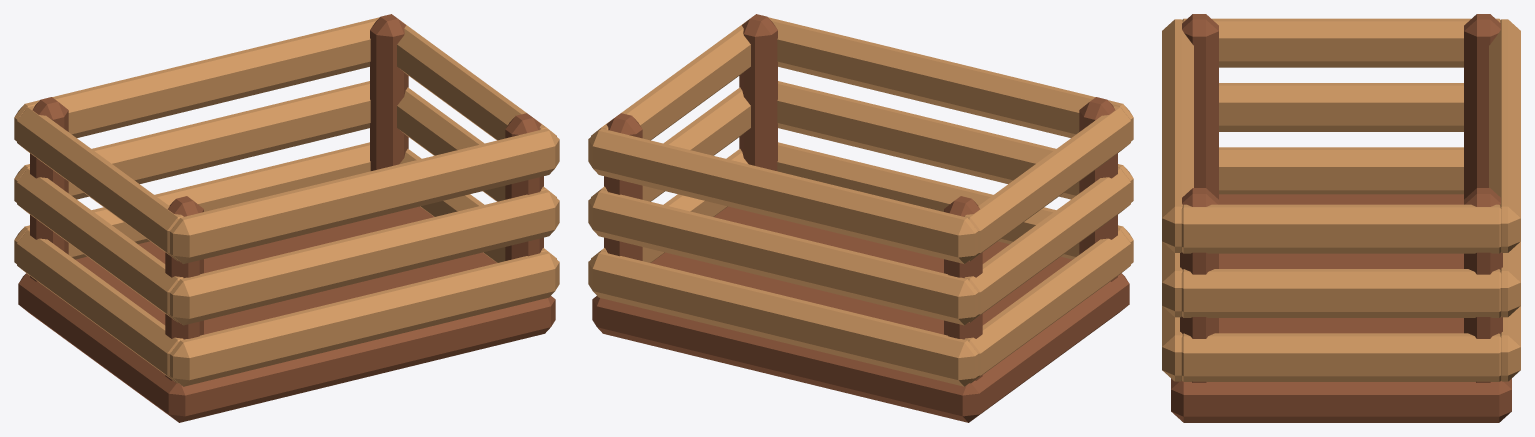
The model's file is market_10_Empty_Crate.glb.
3 renders of one model, left to right at view 1: azimuth 30°, elevation 25°; view 2: azimuth 150°, elevation 25°; view 3: azimuth 270°, elevation 25°, orthographic. The views are drawn at different scales.
Visible parts, largest first — view 1: 10_Empty_Crate; view 2: 10_Empty_Crate; view 3: 10_Empty_Crate.
Part boxes in pixels (x1,y1,x2,y2): 10_Empty_Crate: (14, 14, 559, 422); 10_Empty_Crate: (588, 14, 1133, 422); 10_Empty_Crate: (1162, 14, 1520, 422).
Size of the model in its own units: 0.665 by 0.35 by 0.505.
